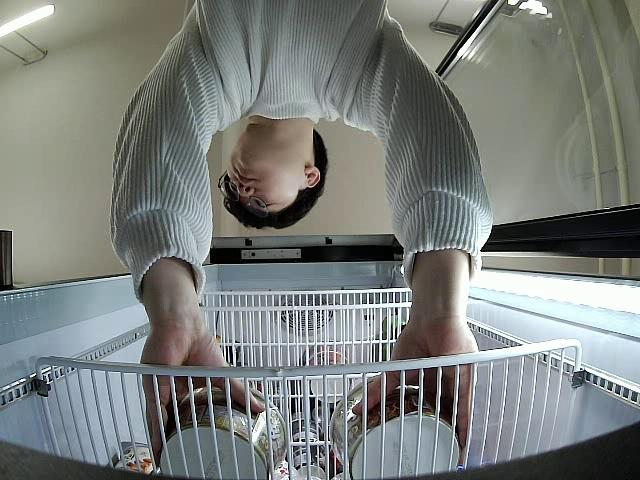00_hand: (140, 321, 263, 467), (351, 313, 480, 448)
03_chapagetti_L: (329, 374, 461, 480), (159, 382, 287, 480)
